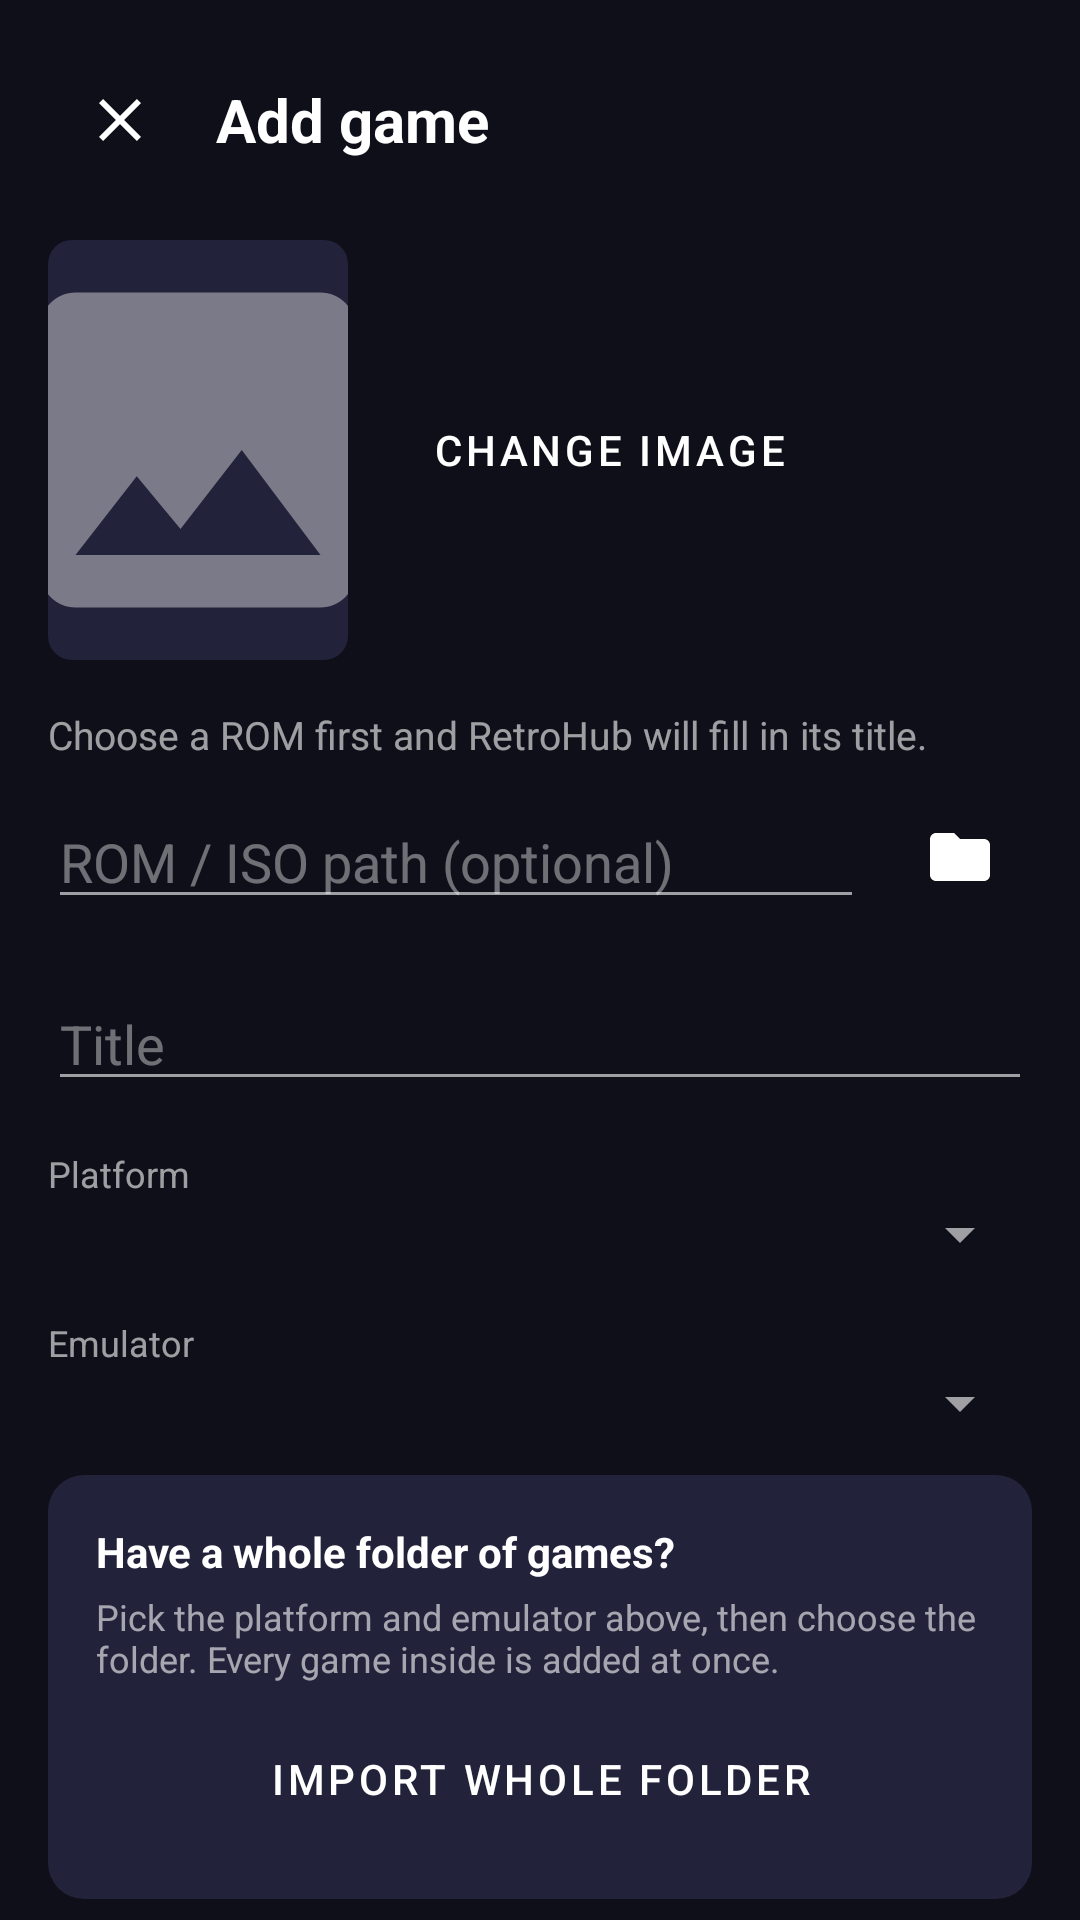

Screen size 1080*1920. Icon name, then its center in pixels as (x,y):
Close: (120,120)
Pick ROM…: (960,857)
